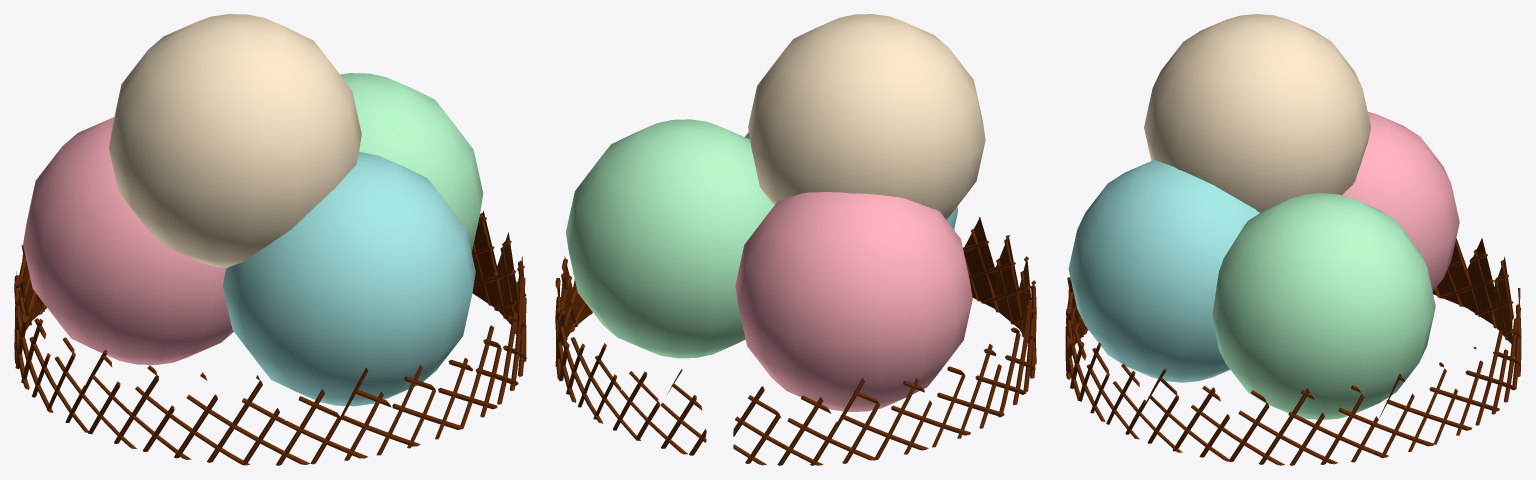
File: iceCreamCrown.fbx
3 renders of one model, left to right at view 1: azimuth 30°, elevation 25°; view 2: azimuth 150°, elevation 25°; view 3: azimuth 270°, elevation 25°, orthographic. The views are drawn at different scales.
Parts seen in each view (by area): view 1: Plane.001; view 2: Plane.001; view 3: Plane.001.
Boxes of the visible parts, x1,y1,x2,y2 form: Plane.001: (14,14,526,465); Plane.001: (555,14,1036,465); Plane.001: (1065,14,1521,465).
Bounding box in the file's own units: 202 × 157 × 202.
